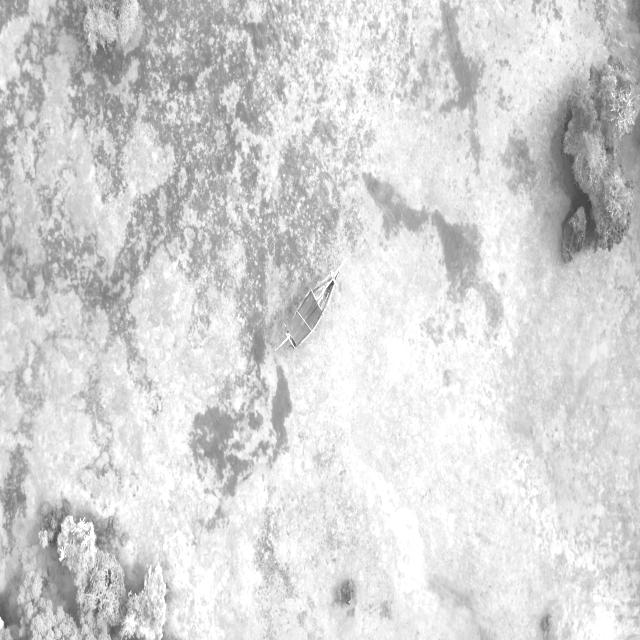ship: (272, 256, 353, 358)
